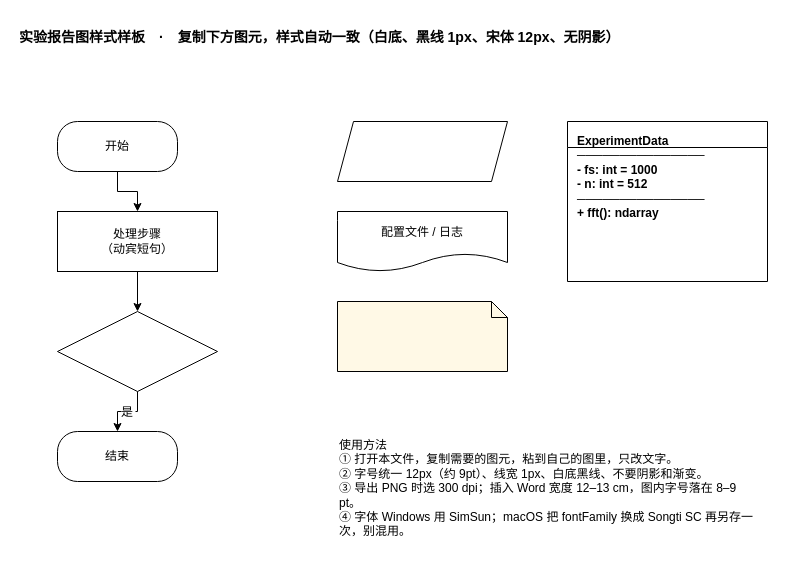
Image size: 785x568. Some labels were removed from this diagram. The centre of each missing label's shape, as x and y in pixels:
条件判断？: point 137,351
说明：参数写在这里 （窗长 256、秩 20）: point 422,336
输入 / 输出数据: point 422,151
